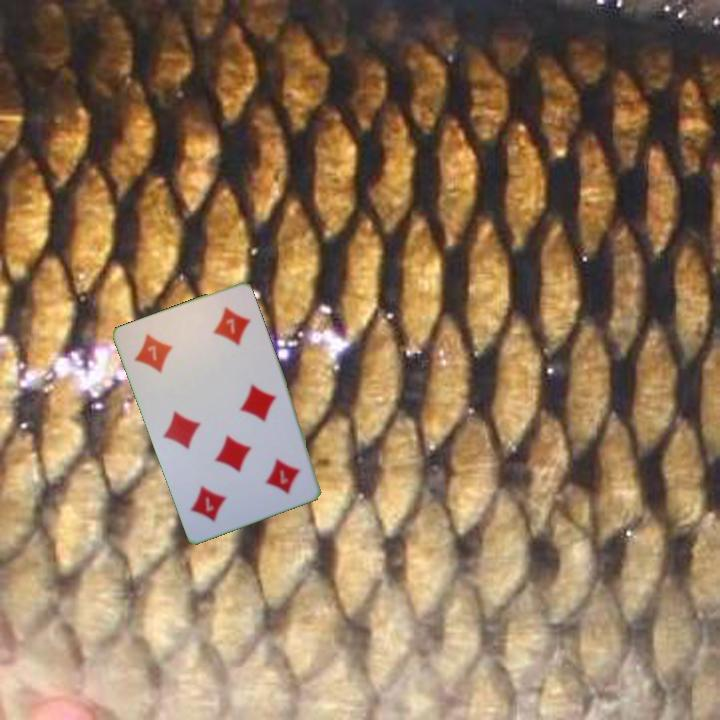d_7.png: (234, 435, 315, 511), (123, 313, 204, 389)
